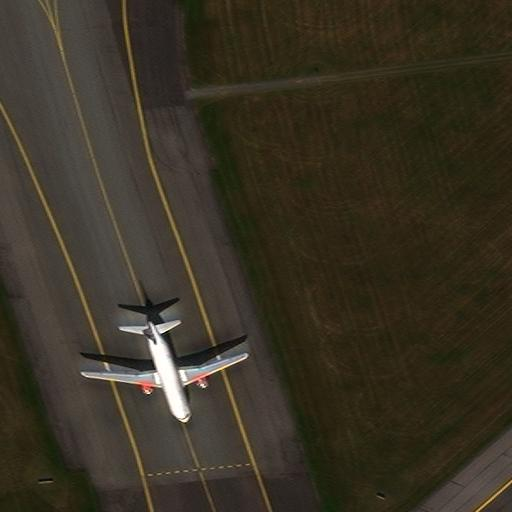Medium Civil Transport: (86, 320, 247, 423)
